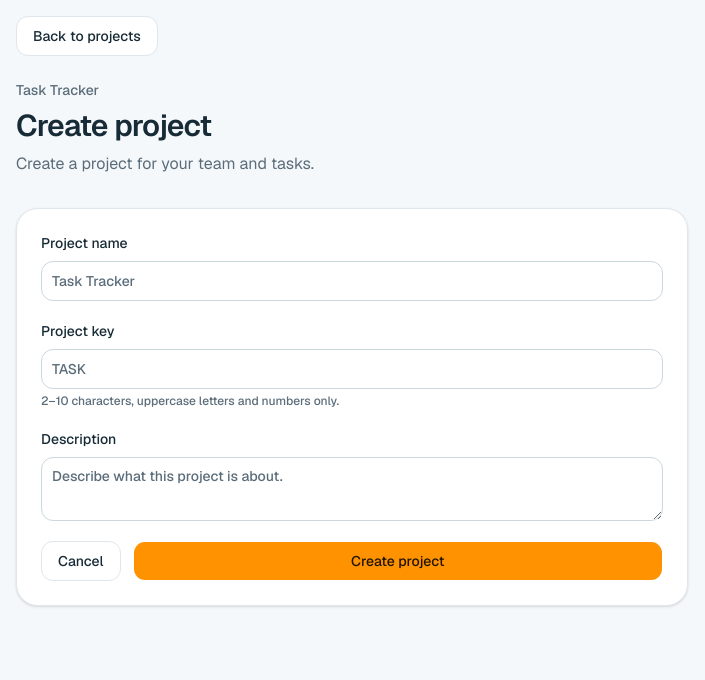
it: CreateProjectPage › shows a server error when creation fails
The image size is (705, 680).
Type "My Project" into the field with placeholder "Task Tracker" at (352, 281), box [41,261,663,301]
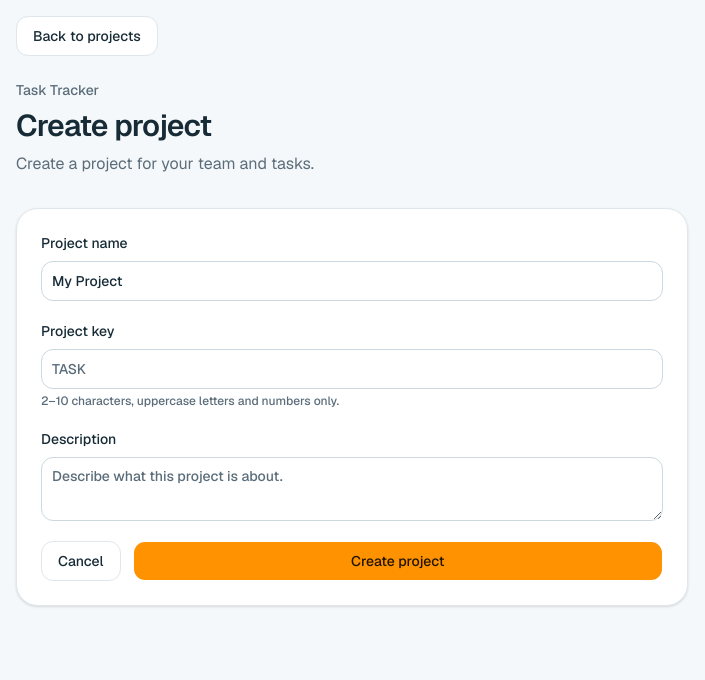
Type "TEST" into the field with placeholder "TASK" at (352, 369), box [41,349,663,389]
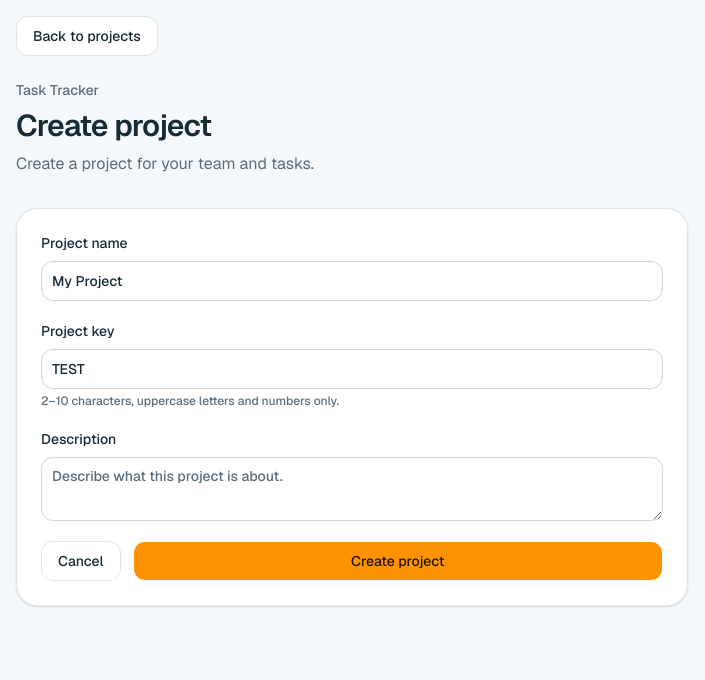
Click the button "Create project" at (398, 561), box [133,541,663,581]
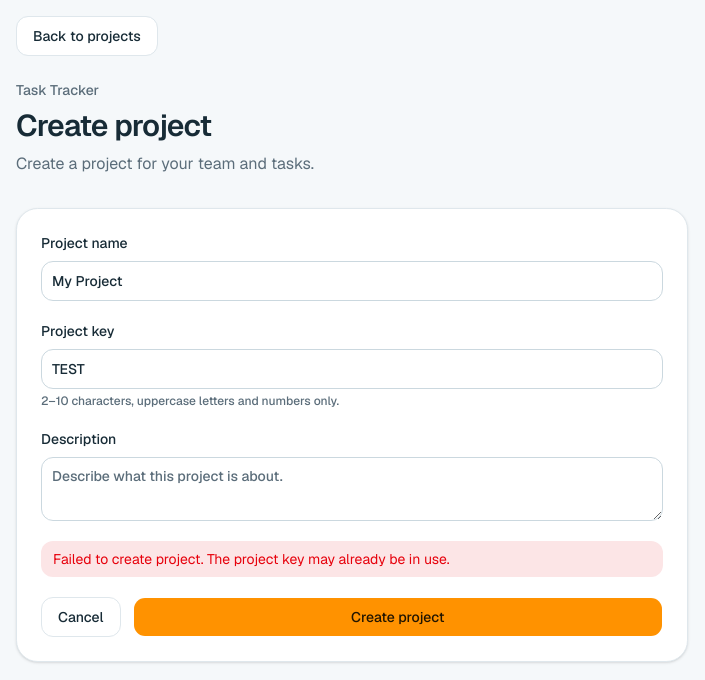
Now the text "Failed to create project. The project key may already be in use." is shown, box [41,541,663,577]
